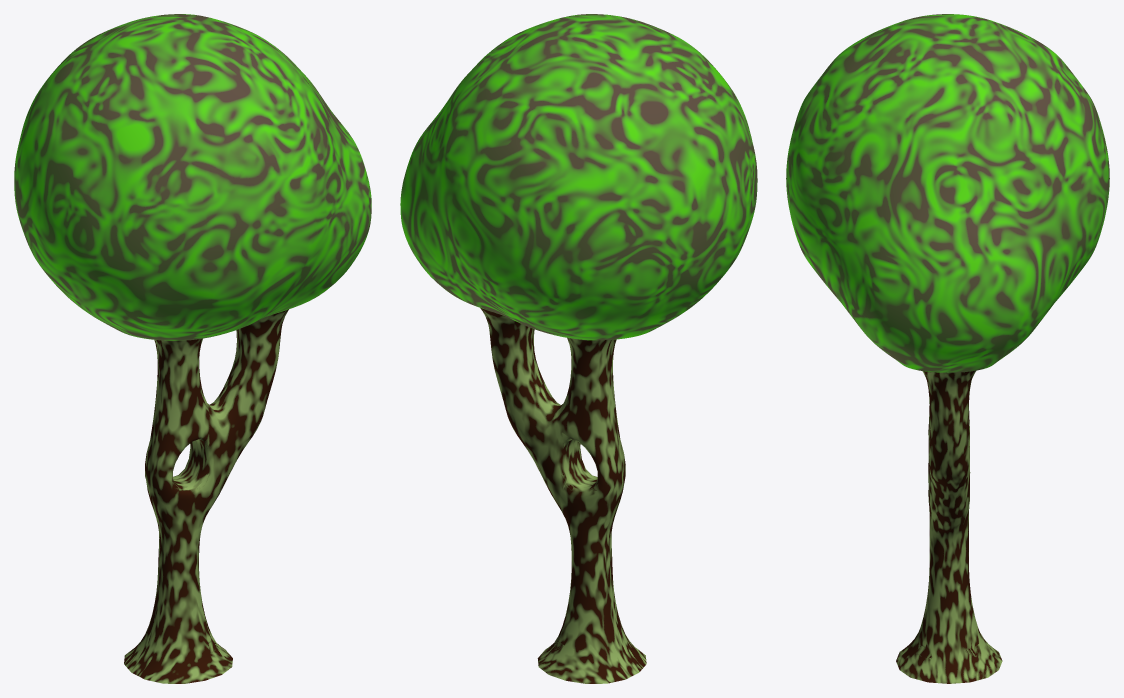
The model's file is Torre_1.glb.
The picture shows the model from 3 angles, left to right: view 1: azimuth 30°, elevation 25°; view 2: azimuth 150°, elevation 25°; view 3: azimuth 270°, elevation 25°; orthographic projection.
Parts seen in each view (by area): view 1: Torre_1.001; view 2: Torre_1.001; view 3: Torre_1.001.
Boxes of the visible parts, x1=… form: Torre_1.001: x1=14, y1=14, x2=371, y2=683; Torre_1.001: x1=400, y1=14, x2=757, y2=683; Torre_1.001: x1=786, y1=14, x2=1109, y2=683.
Bounding box in the file's own units: 78.44 × 149 × 69.37.
2 materials, 2 textured.
